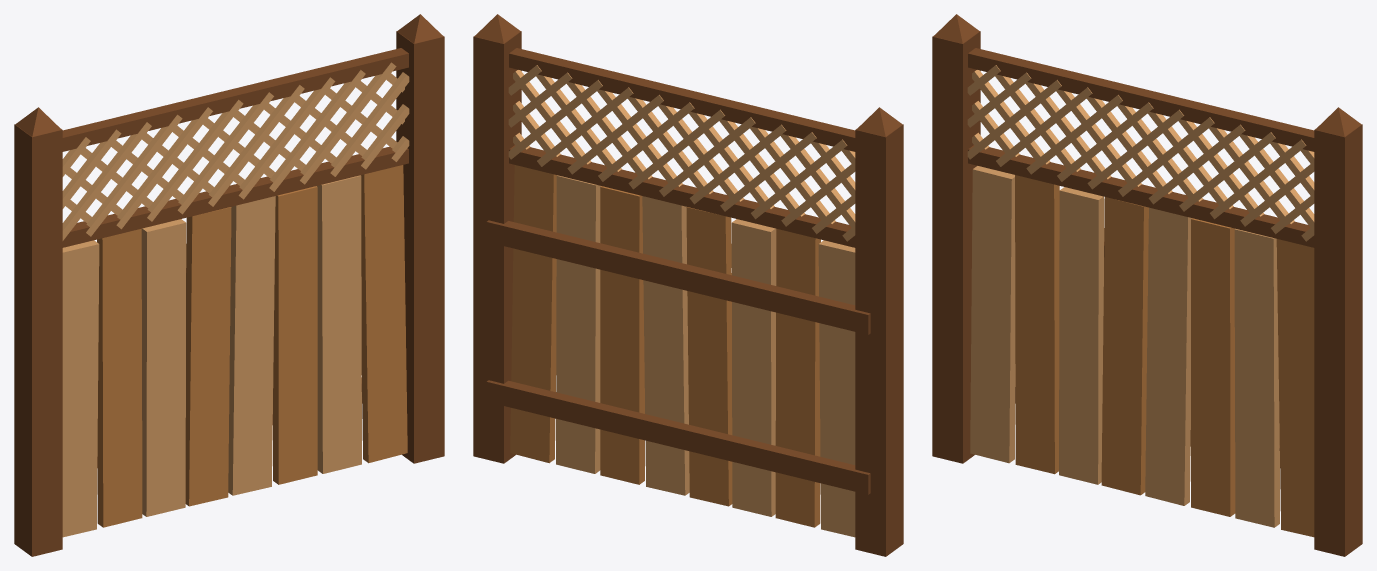
The model's file is valla.glb.
3 views of the same model, side by side, from view 1: azimuth 30°, elevation 25°; view 2: azimuth 150°, elevation 25°; view 3: azimuth 330°, elevation 25° (orthographic).
Parts seen in each view (by area): view 1: valla_madera_clara, valla_madera, valla_madera_osc; view 2: valla_madera_osc, valla_madera_clara, valla_madera; view 3: valla_madera_clara, valla_madera_osc, valla_madera.
Boxes of the visible parts, x1,y1,x2,y2 form: valla_madera_clara: (62, 62, 409, 537); valla_madera: (97, 165, 407, 527); valla_madera_osc: (14, 14, 444, 556); valla_madera_osc: (473, 14, 903, 556); valla_madera_clara: (508, 65, 855, 537); valla_madera: (510, 165, 820, 527); valla_madera_clara: (967, 65, 1314, 527); valla_madera_osc: (932, 14, 1362, 556); valla_madera: (1015, 175, 1314, 537).
Bounding box in the file's own units: 2.16 × 2.2 × 0.18.
